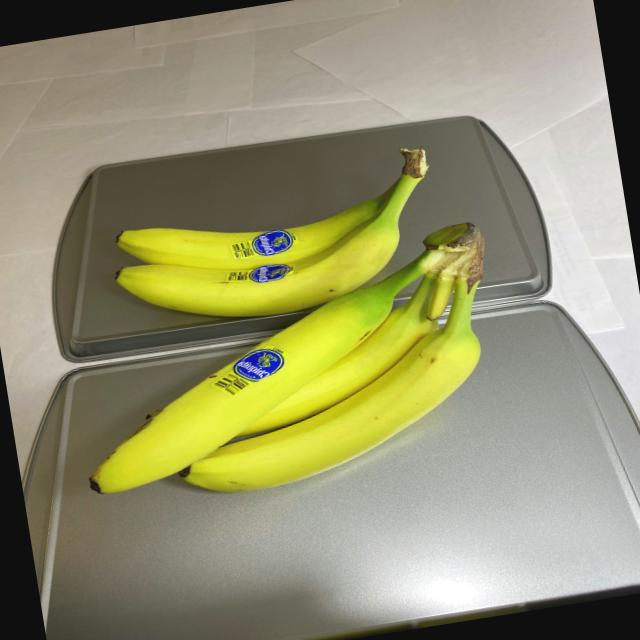banana: (38, 138, 524, 564)
